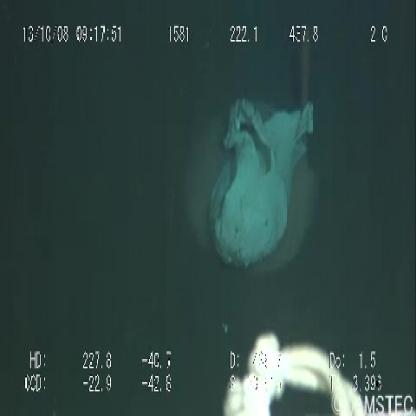Rov: (214, 326, 375, 416)
Rác: (200, 92, 321, 279)
